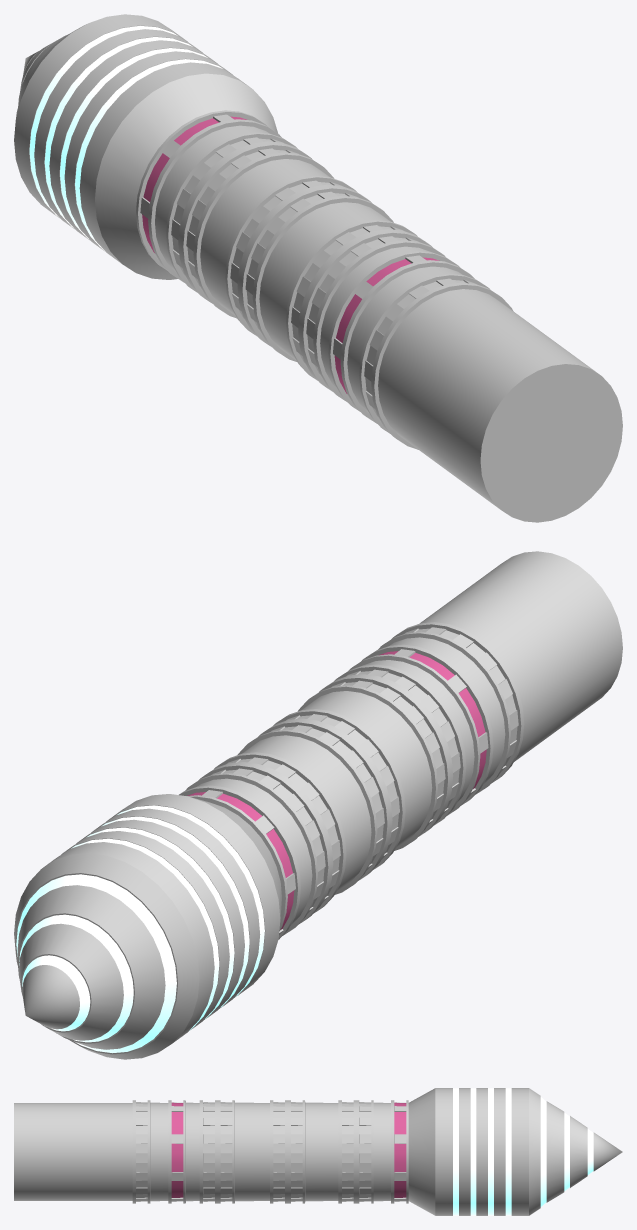
Rendered from Laser.fbx.
3 renders of one model, top to bottom at view 1: azimuth 30°, elevation 25°; view 2: azimuth 150°, elevation 25°; view 3: azimuth 270°, elevation 25°, orthographic. The views are drawn at different scales.
Visible parts, largest first — view 1: Laser; view 2: Laser; view 3: Laser.
Part boxes in pixels (x1,y1,x2,y2): Laser: (14, 14, 622, 522); Laser: (14, 551, 622, 1059); Laser: (14, 1088, 622, 1215).
Size of the model in its own units: 14006 by 2852 by 2962.
